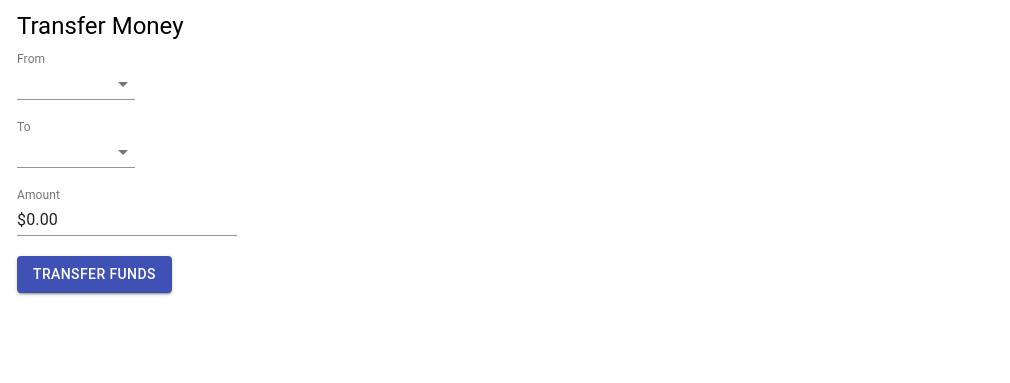
Scenario: <TransferPage /> › should error out if no amount set
This screenshot has width=1010, height=383.
Select "Example1 - 1" in the dropdown labelled "From" at (76, 84), box [17,68,135,100]
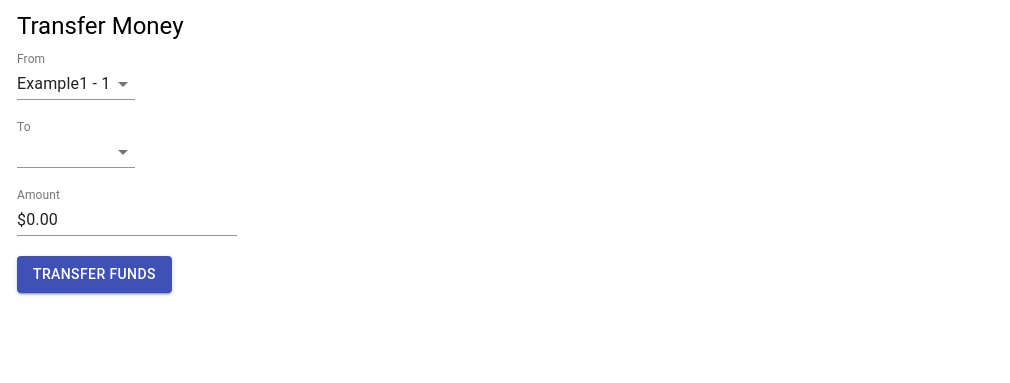
Select "Example2 - 2" in the dropdown labelled "To" at (76, 152), box [17,136,135,168]
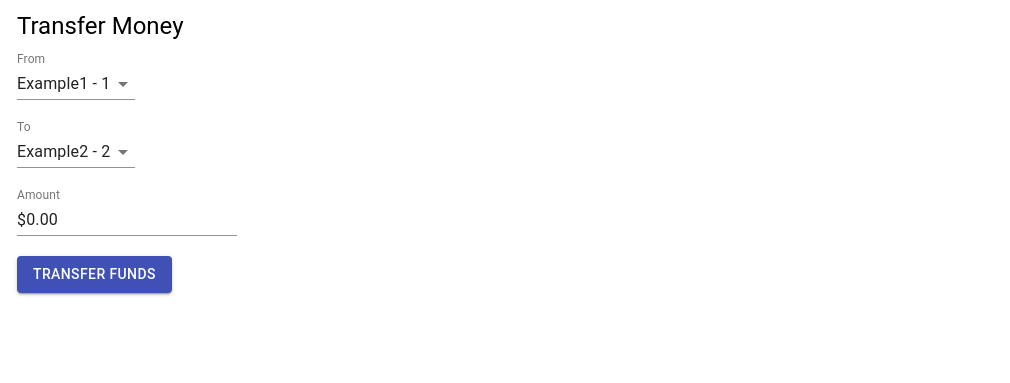
Click the button with test id "start-transfer-button".
click(94, 274)  # box [17,256,172,292]
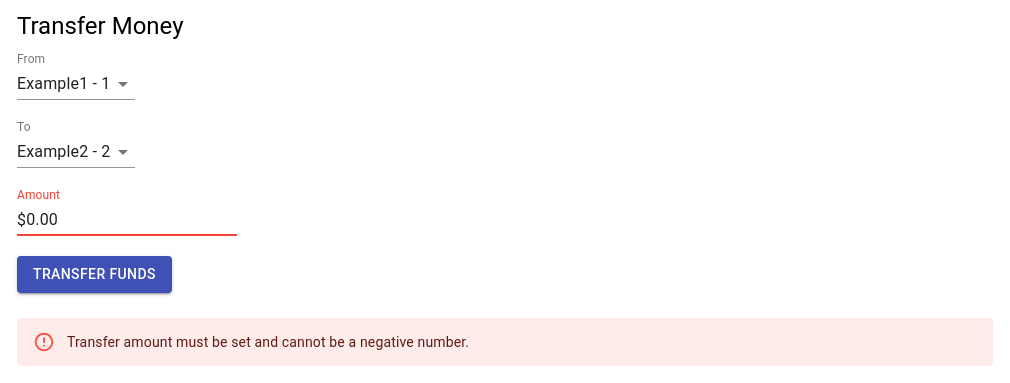
expect the text "Transfer amount must be set and cannot be a negative number." is shown: met, box [67,334,469,350]
